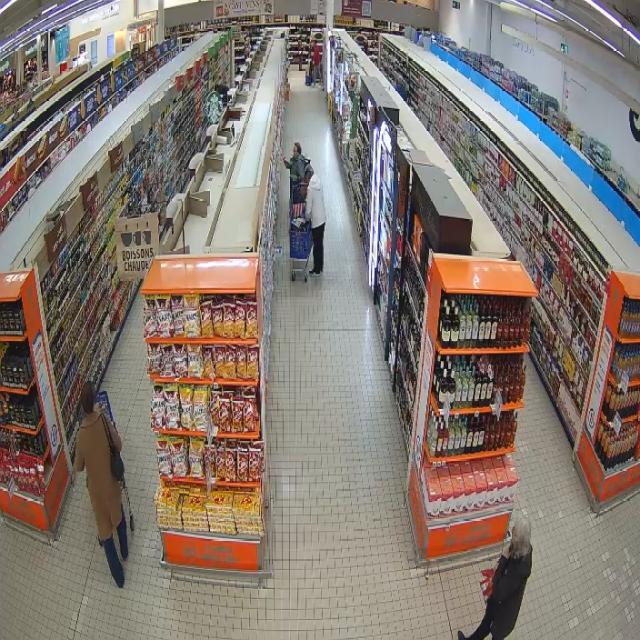bags: (102, 416, 124, 481)
hands: (502, 545, 510, 558), (282, 156, 286, 162)
person: (74, 384, 128, 587), (459, 517, 531, 639), (305, 165, 326, 275), (283, 143, 304, 191)
